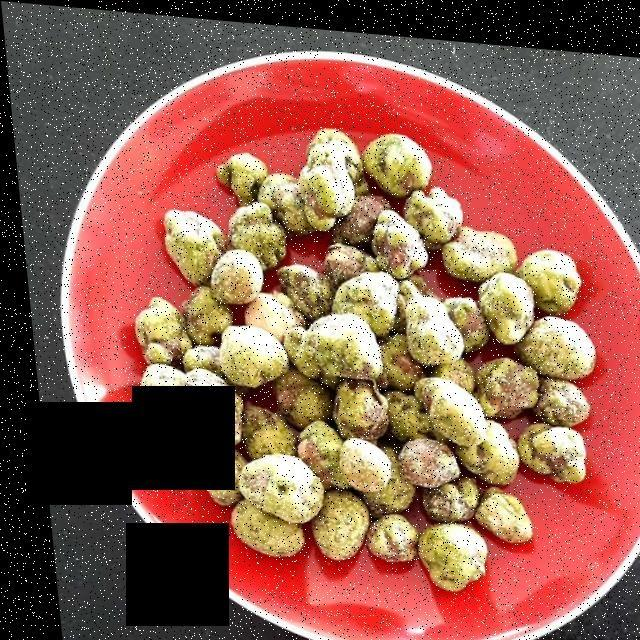nut: (132, 141, 581, 572)
